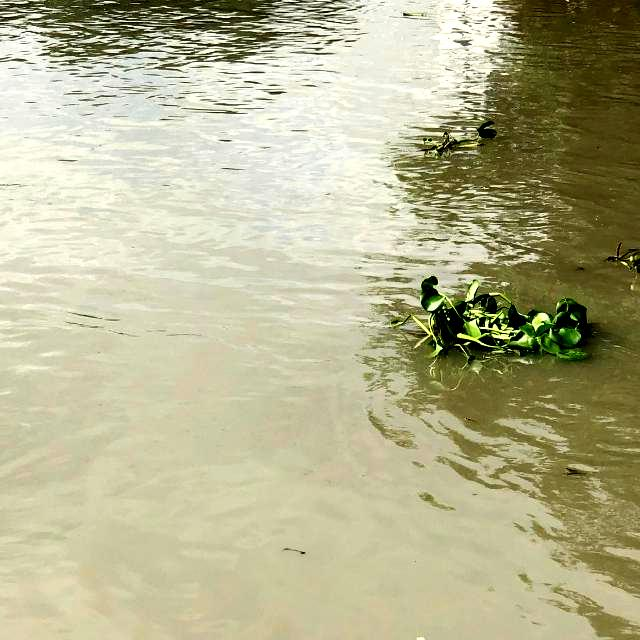water-hyacinth: (400, 269, 589, 368), (421, 120, 498, 158), (610, 243, 640, 281)
